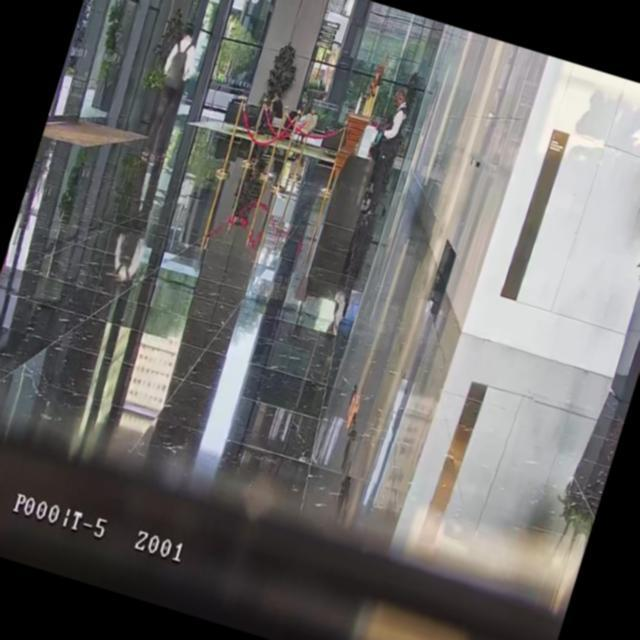person: (135, 19, 207, 167), (354, 82, 416, 220)
